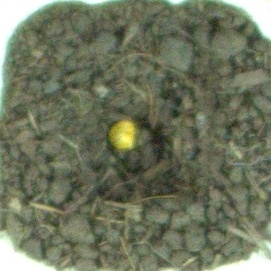pepper seed: (39, 43, 176, 194)
